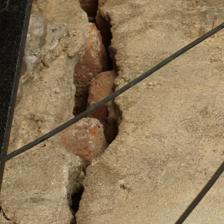Crack: (51, 0, 135, 174), (0, 7, 149, 70)
